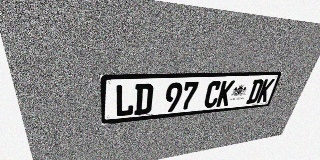7: (179, 82, 199, 111)
9: (164, 82, 183, 112)
C: (203, 81, 222, 108)
D: (134, 83, 154, 115), (246, 79, 265, 104)
K: (216, 80, 235, 107), (256, 79, 275, 103)
L: (115, 84, 135, 117)
